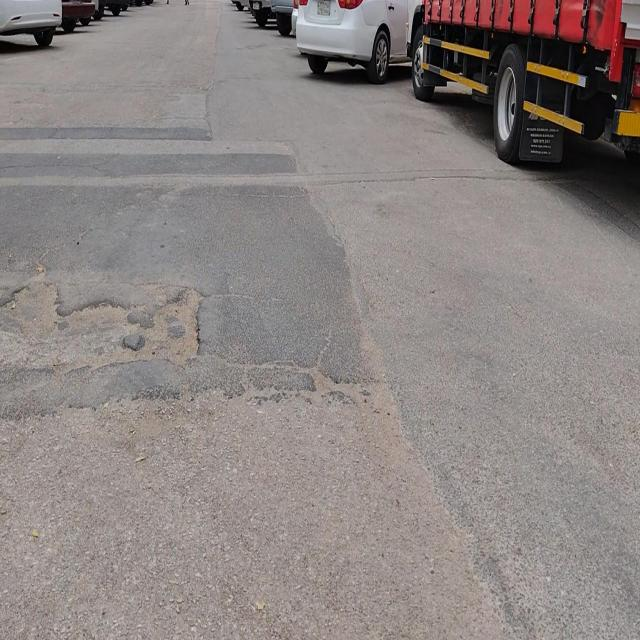Potholes: (122, 282, 208, 369), (55, 294, 129, 375)
